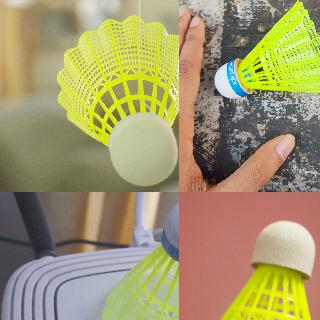shuttlecock: (56, 15, 178, 187), (181, 220, 319, 319), (213, 1, 319, 98), (101, 196, 178, 319)
